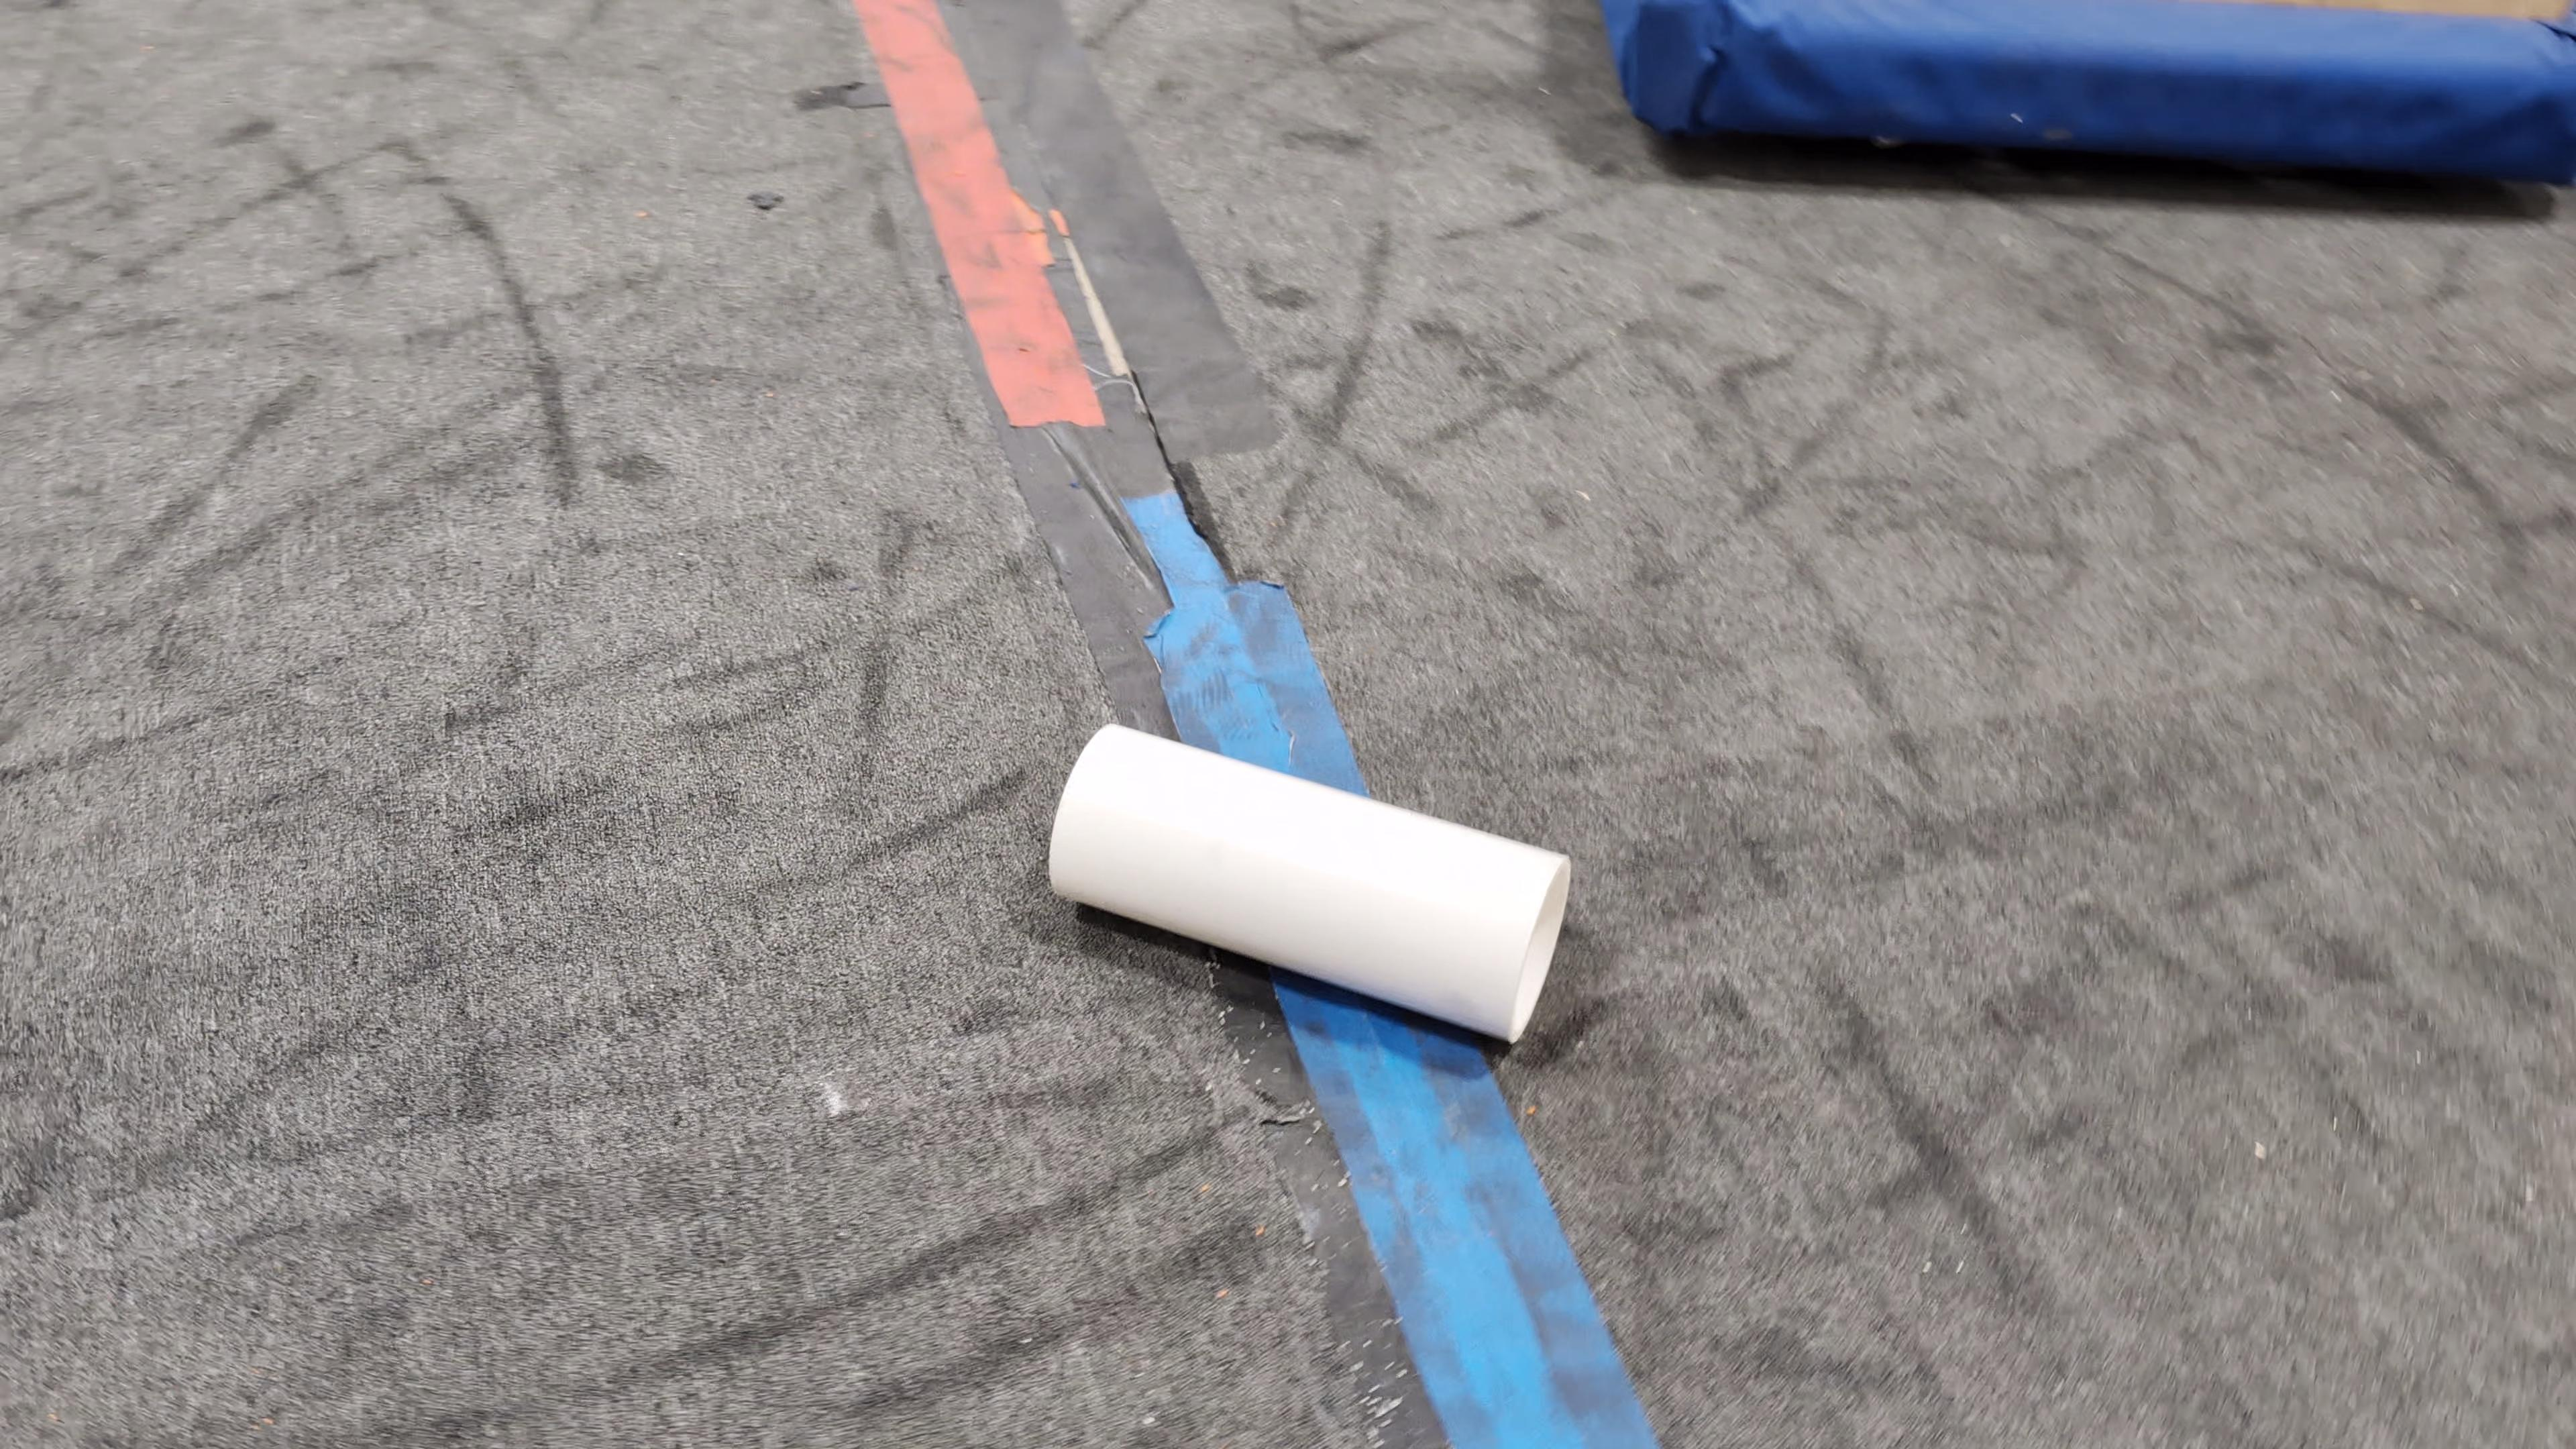coral: (1044, 715, 1575, 1047)
